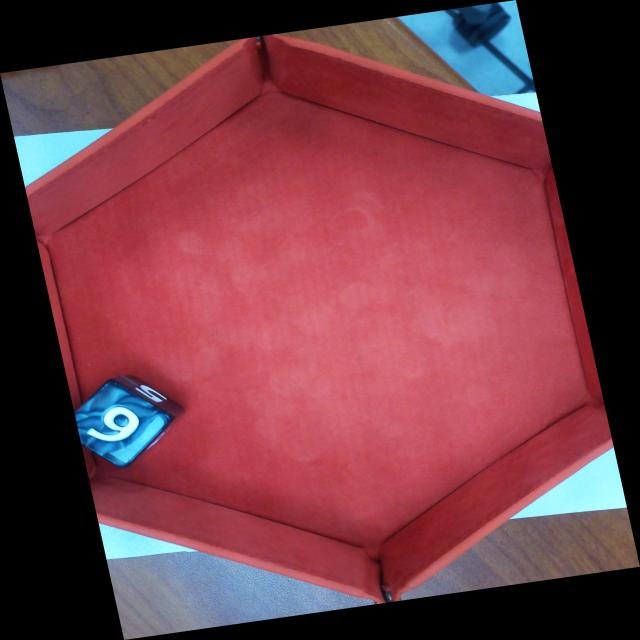dice: (71, 379, 175, 469)
